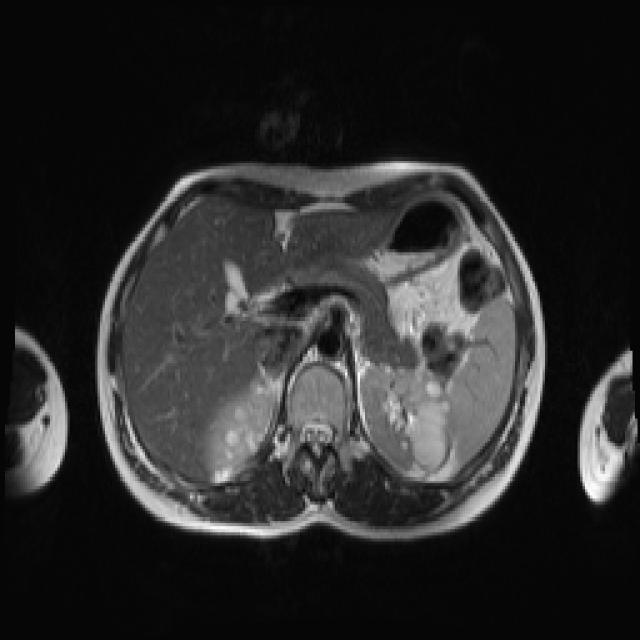sag: (205, 374, 279, 486)
sol: (358, 360, 458, 481)
